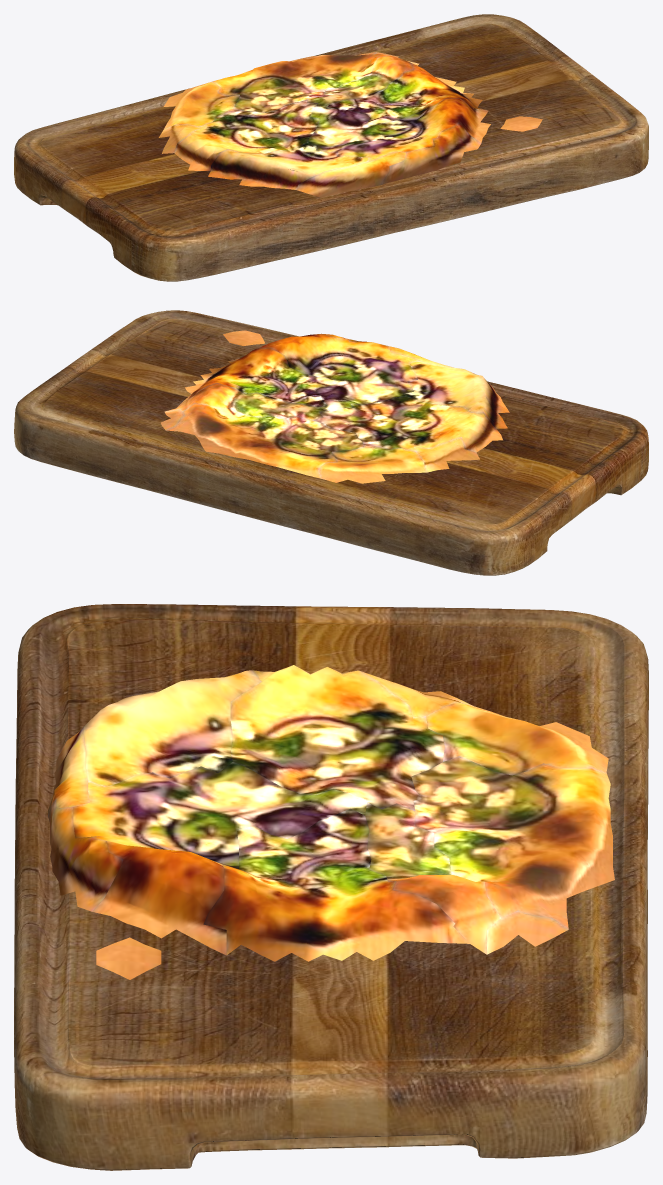
File: flatbread.glb
The picture shows the model from 3 angles, top to bottom: view 1: azimuth 30°, elevation 25°; view 2: azimuth 150°, elevation 25°; view 3: azimuth 270°, elevation 25°; orthographic projection. The views are drawn at different scales.
Parts seen in each view (by area): view 1: wooden_cutting_board, dish; view 2: wooden_cutting_board, dish; view 3: wooden_cutting_board, dish.
Boxes of the visible parts, x1,y1,x2,y2 form: wooden_cutting_board: (14,14,648,281); dish: (158,52,542,197); wooden_cutting_board: (14,310,648,575); dish: (160,330,509,483); wooden_cutting_board: (14,604,648,1170); dish: (48,665,614,979).
Bounding box in the file's own units: 0.4636 × 0.0674 × 0.2542.
Materials: 2 (2 with a texture image).
